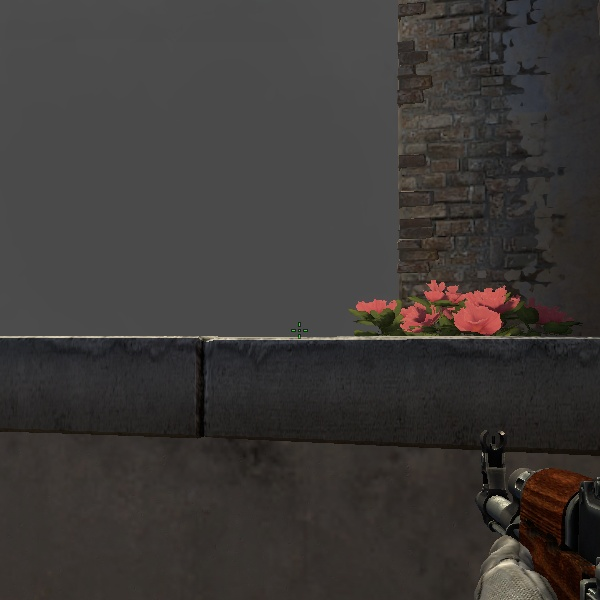t_head: (475, 433, 600, 595)
